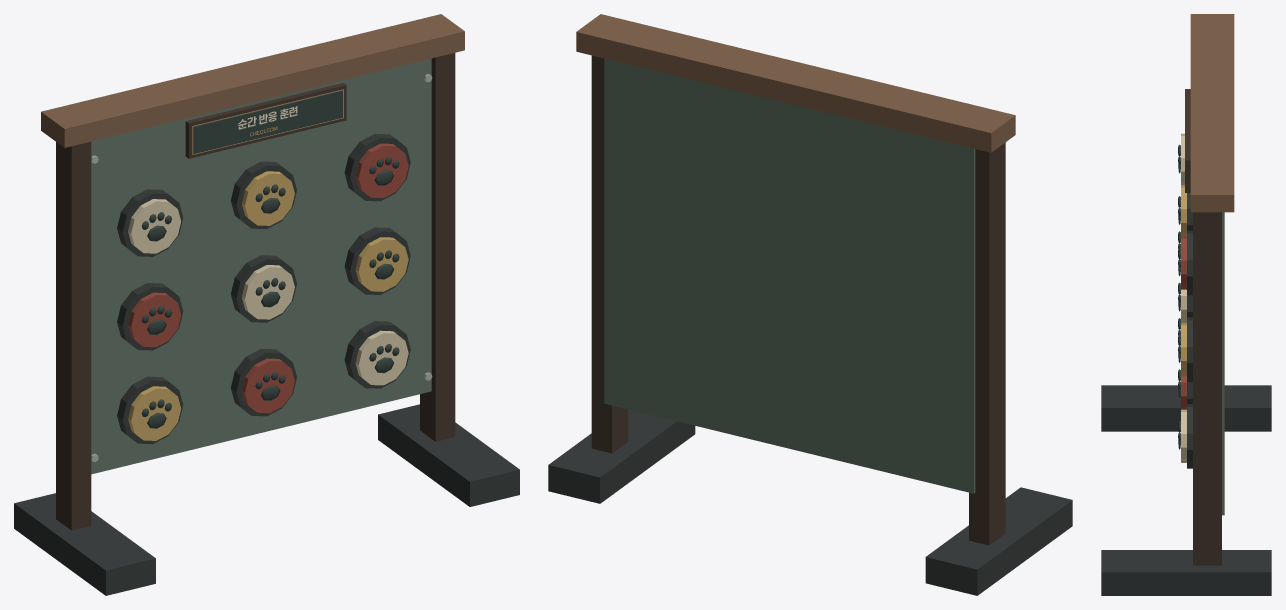
The model's file is 04_Reaction_Training_Wall.fbx.
The picture shows the model from 3 angles, left to right: view 1: azimuth 30°, elevation 25°; view 2: azimuth 150°, elevation 25°; view 3: azimuth 270°, elevation 25°; orthographic projection. The views are drawn at different scales.
Visible parts, largest first — view 1: Structure.003, Target_6, Target_1, Target_9, Target_5, Target_2, Target_3, Target_7, Target_4, Target_8; view 2: Structure.003; view 3: Structure.003, Target_3, Target_9, Target_6, Target_8, Target_7, Target_5, Target_2.
Part boxes in pixels (x1,y1,x2,y2): Structure.003: (14,14,519,595); Target_6: (355,237,408,291); Target_1: (128,386,181,440); Target_9: (355,143,408,198); Target_5: (242,265,294,319); Target_2: (242,358,294,413); Target_3: (355,330,408,385); Target_7: (128,199,181,253); Target_4: (128,292,180,347); Target_8: (242,171,294,225); Structure.003: (548,14,1072,595); Structure.003: (1101,14,1271,595); Target_3: (1178,409,1186,462); Target_9: (1178,236,1186,289); Target_6: (1178,323,1186,376); Target_8: (1178,185,1186,236); Target_7: (1178,133,1184,184); Target_5: (1178,282,1186,322); Target_2: (1178,369,1186,409).
Bounding box in the file's own units: 273 × 271 × 105.
Materials: 2 (2 with a texture image).
